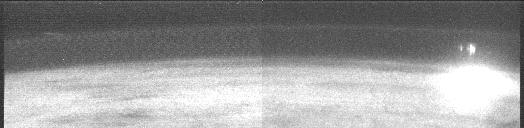positive: (455, 38, 478, 60)
